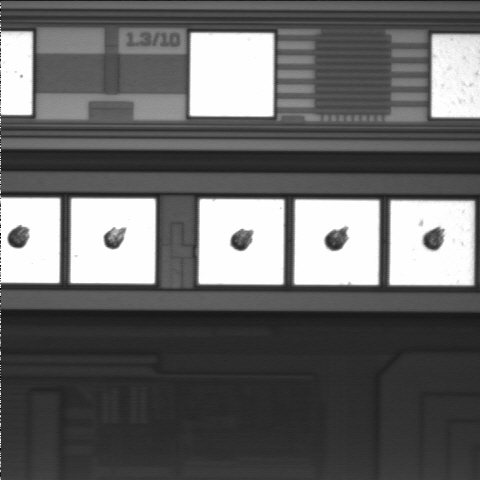pad: (70, 198, 155, 284), (199, 199, 284, 284), (294, 200, 379, 285), (390, 201, 474, 285), (190, 33, 274, 116)
